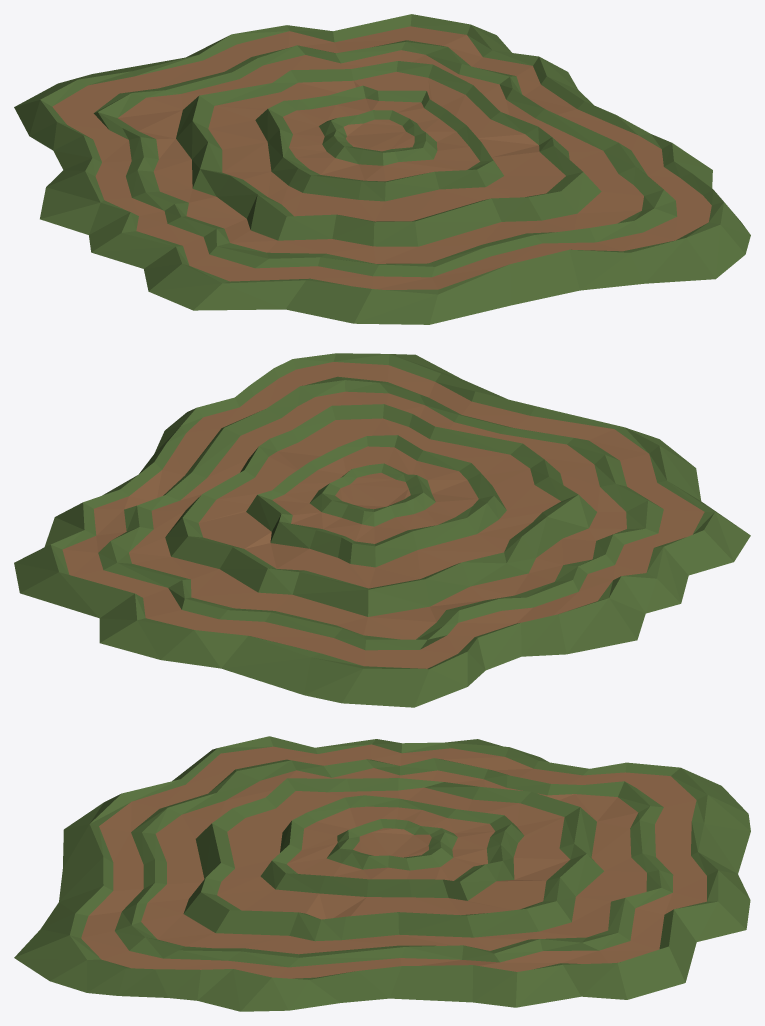
The model's file is RiceHills Asia.fbx.
3 renders of one model, top to bottom at view 1: azimuth 30°, elevation 25°; view 2: azimuth 150°, elevation 25°; view 3: azimuth 270°, elevation 25°, orthographic. The views are drawn at different scales.
Parts seen in each view (by area): view 1: RiceHills; view 2: RiceHills; view 3: RiceHills.
Boxes of the visible parts, box(x1,y1,x2,y2) form: RiceHills: box(14, 14, 750, 324); RiceHills: box(14, 353, 750, 707); RiceHills: box(14, 736, 750, 1011).
Bounding box in the file's own units: 42.57 × 3.34 × 48.62.
